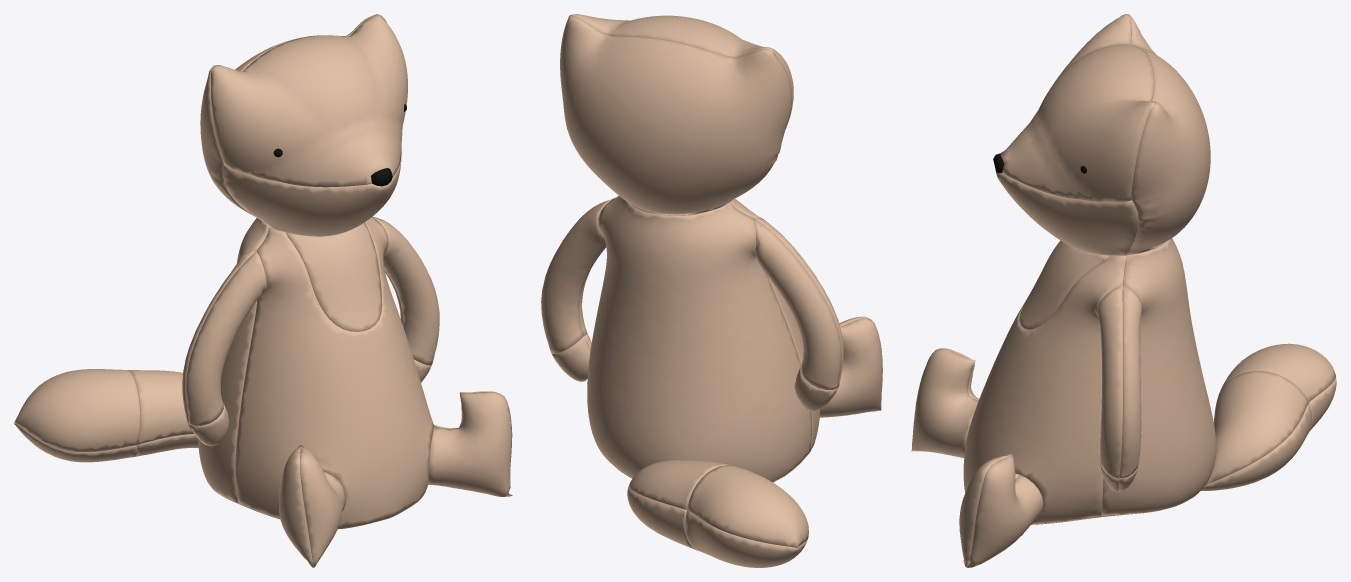
The model's file is toyfox.FBX.
3 views of the same model, side by side, from view 1: azimuth 30°, elevation 25°; view 2: azimuth 150°, elevation 25°; view 3: azimuth 270°, elevation 25° (orthographic). The views are drawn at different scales.
Visible parts, largest first — view 1: default; view 2: default; view 3: default.
Part boxes in pixels (<box>): default: <box>14,14,512,567</box>; default: <box>541,14,882,567</box>; default: <box>911,14,1336,567</box>.
Size of the model in its own units: 16.98 by 20.41 by 17.63.
